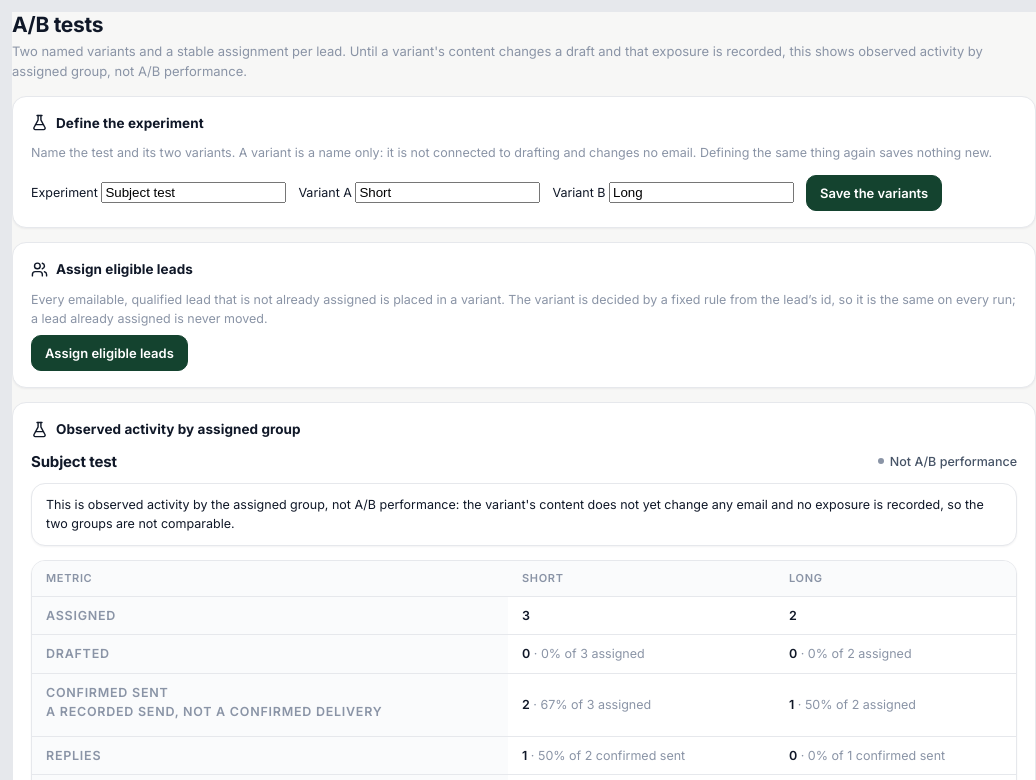
Scenario: the A/B tests page › assigns eligible leads and shows what happened
Click the button "Assign eligible leads" at [109, 353], box [31,335,188,371]
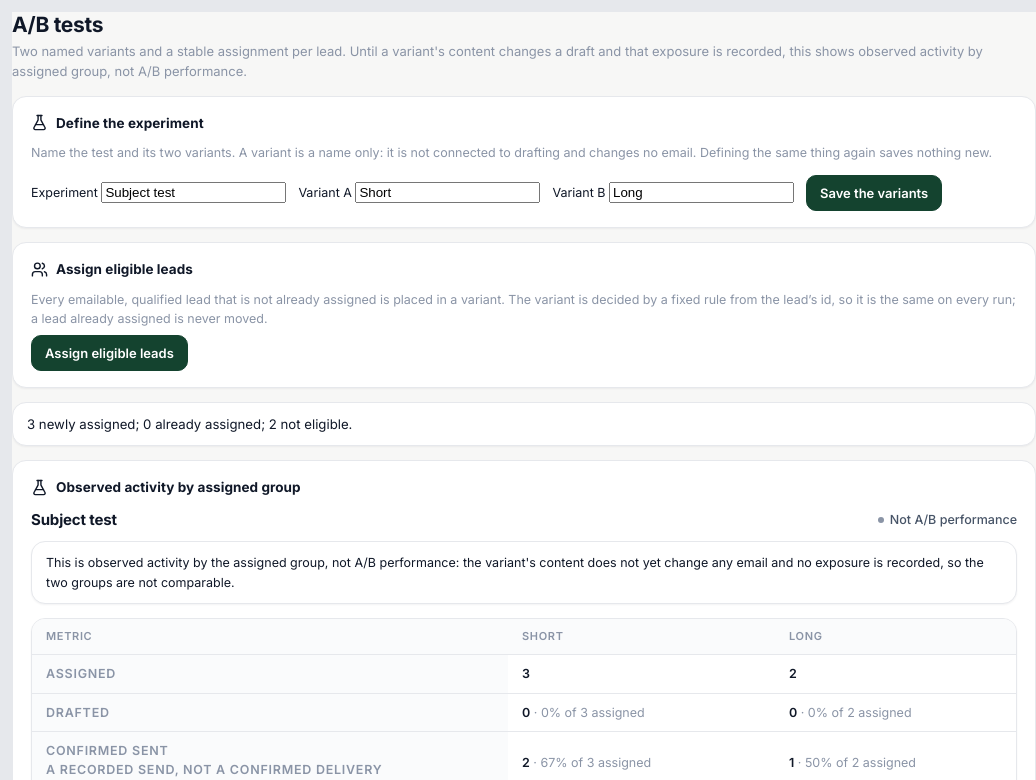
expect the text "3 newly assigned; 0 already assigned; 2 not eligible." is shown: met, box [27,416,352,432]
